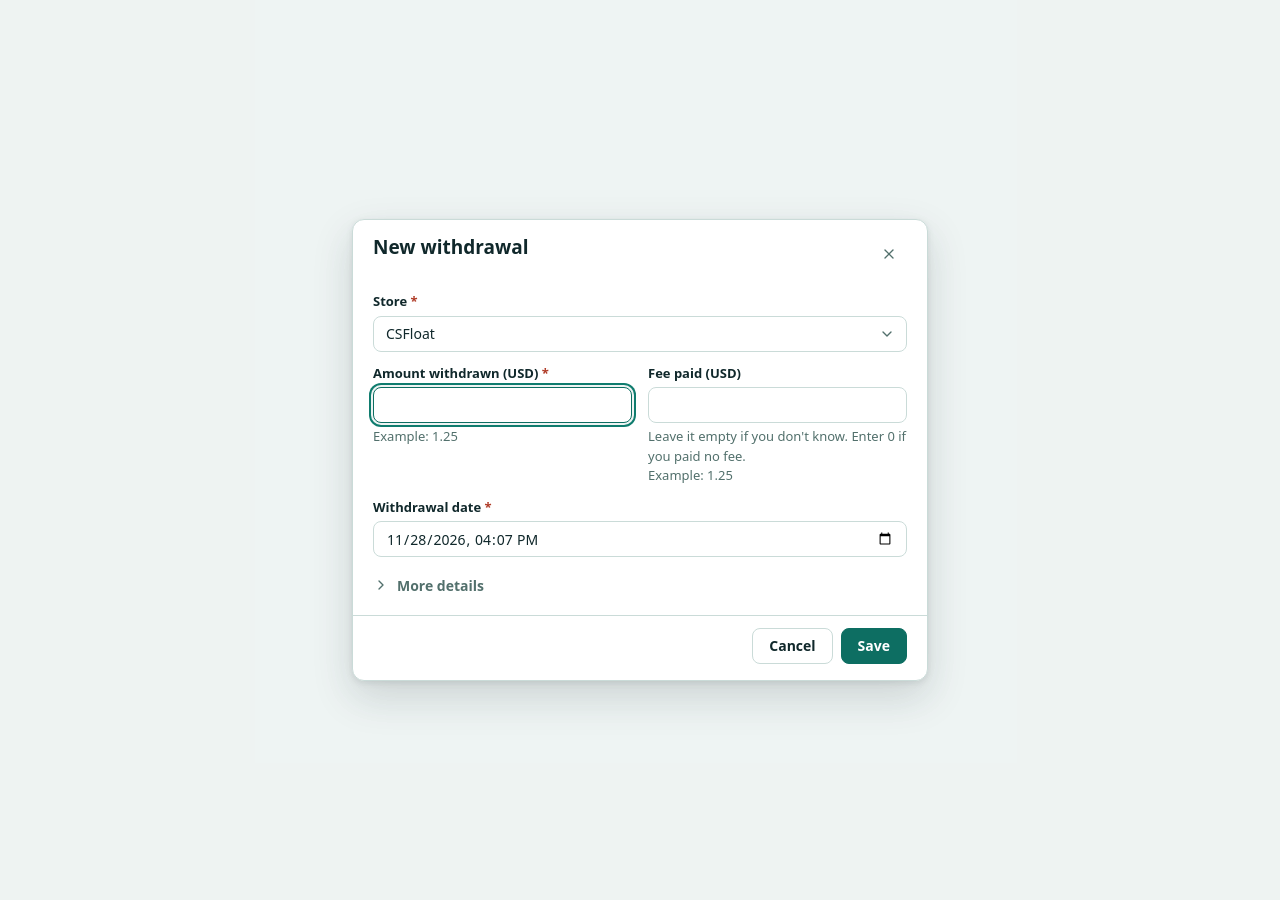
Scenario: WithdrawalFormModal (QA 12.7b) › taxa pré-preenchida pela sugestão e editada pelo usuário vai no corpo com o valor editado
Later steps or results of the test are not shown.
Type "100" into the field labelled "Amount withdrawn (USD) *" at (502, 405), box x1=386 y1=388 x2=619 y2=422
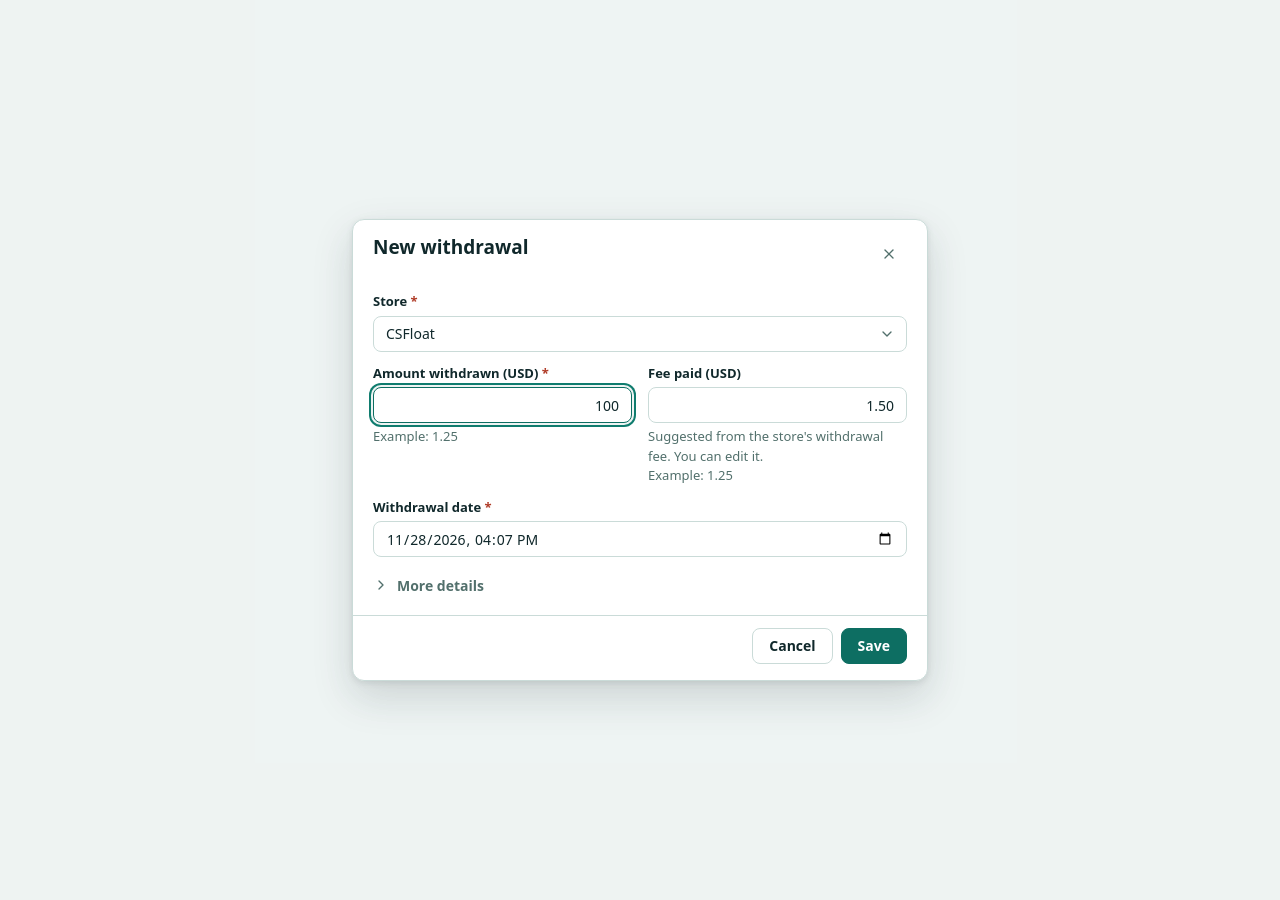
Now the field labelled "Fee paid (USD)" holds "1.50", box x1=661 y1=388 x2=894 y2=422
